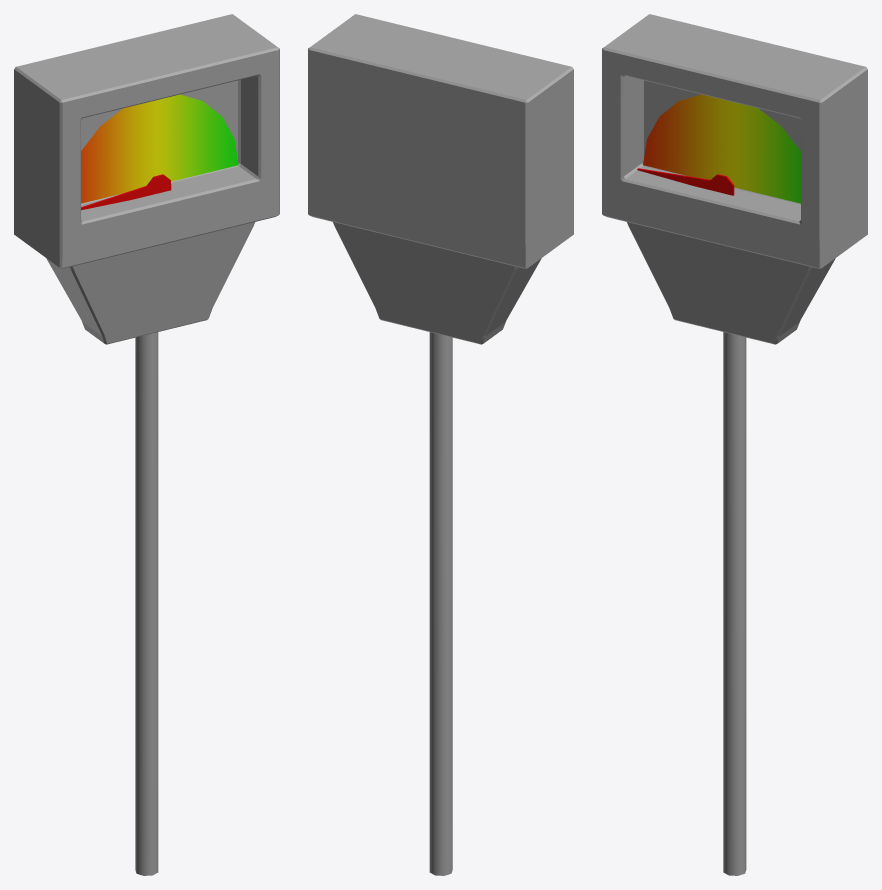
The model's file is Feed_meter.fbx.
3 renders of one model, left to right at view 1: azimuth 30°, elevation 25°; view 2: azimuth 150°, elevation 25°; view 3: azimuth 330°, elevation 25°, orthographic.
Parts seen in each view (by area): view 1: Meter_v01:meter_head, Meter_v01:meter_stick, Meter_v01:levels, Meter_v01:needle; view 2: Meter_v01:meter_head, Meter_v01:meter_stick; view 3: Meter_v01:meter_head, Meter_v01:meter_stick, Meter_v01:levels, Meter_v01:needle.
Part boxes in pixels (bbox=[...]): Meter_v01:meter_head: bbox=[14, 14, 279, 344]; Meter_v01:meter_stick: bbox=[135, 332, 158, 875]; Meter_v01:levels: bbox=[81, 94, 238, 203]; Meter_v01:needle: bbox=[81, 174, 171, 210]; Meter_v01:meter_head: bbox=[308, 14, 573, 344]; Meter_v01:meter_stick: bbox=[429, 332, 452, 875]; Meter_v01:meter_head: bbox=[602, 14, 867, 344]; Meter_v01:meter_stick: bbox=[723, 332, 746, 875]; Meter_v01:levels: bbox=[643, 94, 800, 203]; Meter_v01:needle: bbox=[637, 168, 734, 195].
Bounding box in the file's own units: 0.0689 × 0.2433 × 0.0257.
